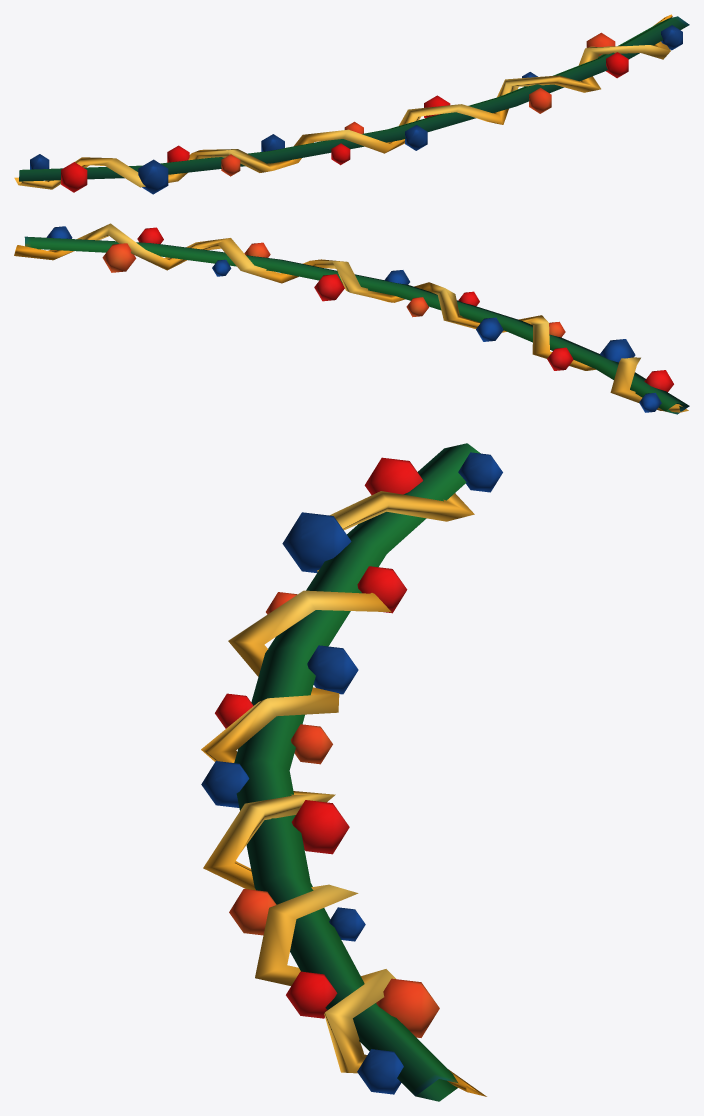
Rendered from Garland_C.fbx.
3 views of the same model, one above another, from view 1: azimuth 30°, elevation 25°; view 2: azimuth 150°, elevation 25°; view 3: azimuth 270°, elevation 25° (orthographic). The views are drawn at different scales.
Visible parts, largest first — view 1: Garland_C; view 2: Garland_C; view 3: Garland_C.
Part boxes in pixels (x1=…): Garland_C: x1=14, y1=14, x2=689, y2=194; Garland_C: x1=14, y1=223, x2=689, y2=414; Garland_C: x1=201, y1=443, x2=502, y2=1101.
Size of the model in its own units: 73.77 by 3.15 by 14.55.
